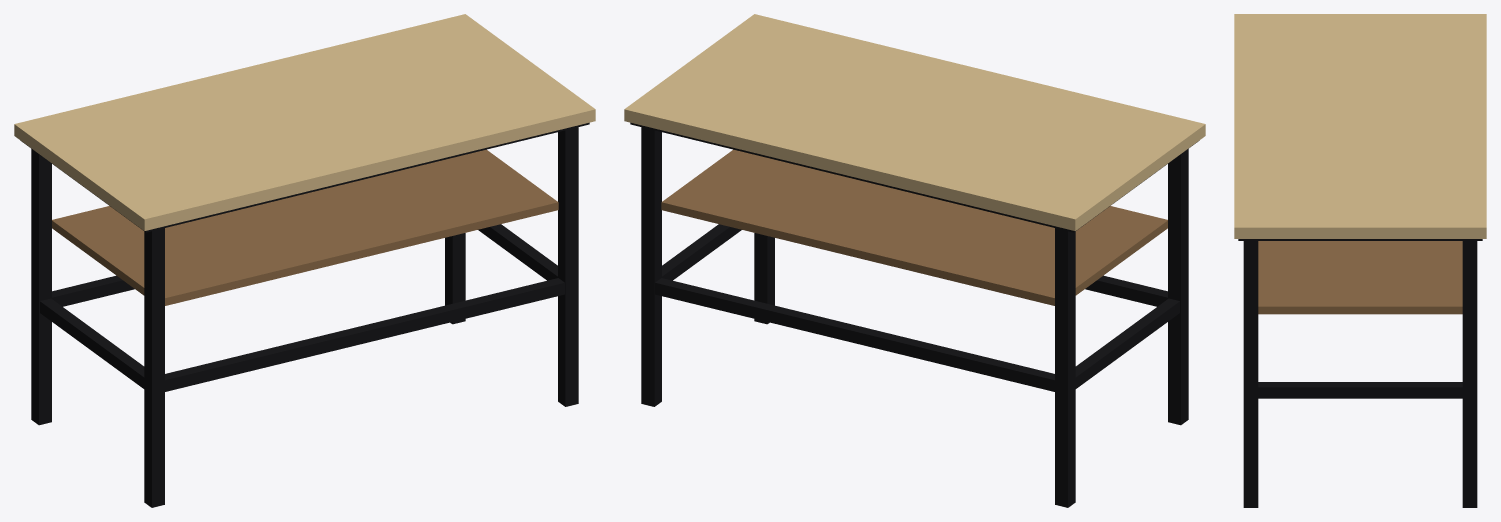
Rendered from Desk.obj.
The picture shows the model from 3 angles, left to right: view 1: azimuth 30°, elevation 25°; view 2: azimuth 150°, elevation 25°; view 3: azimuth 270°, elevation 25°; orthographic projection. The views are drawn at different scales.
Visible parts, largest first — view 1: top, shelf, legs, frame, edge; view 2: top, shelf, legs, frame, edge; view 3: top, shelf, legs, frame, edge.
Boxes of the visible parts, x1,y1,x2,y2 form: top: [14, 14, 595, 230]; shelf: [52, 149, 558, 305]; legs: [31, 127, 578, 507]; frame: [40, 224, 564, 391]; edge: [20, 122, 589, 232]; top: [624, 14, 1205, 230]; shelf: [661, 149, 1167, 305]; legs: [641, 127, 1188, 507]; frame: [655, 224, 1179, 391]; edge: [630, 122, 1199, 232]; top: [1234, 14, 1486, 238]; shelf: [1258, 241, 1462, 314]; legs: [1243, 241, 1477, 507]; frame: [1258, 382, 1462, 398]; edge: [1238, 239, 1482, 240].
Bounding box in the file's own units: 1.2 × 0.75 × 0.6.
